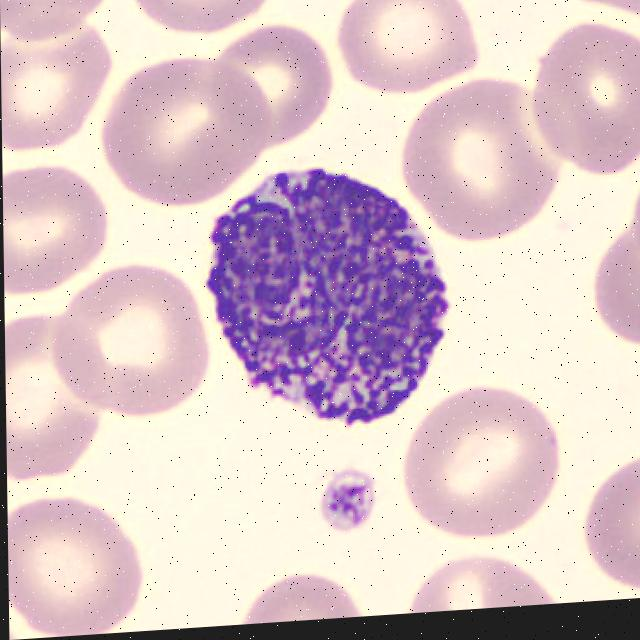basophil: (188, 151, 457, 455)
platelets: (311, 463, 387, 539)
rbc: (407, 78, 577, 249), (397, 384, 563, 542), (97, 58, 271, 206), (55, 267, 216, 420), (5, 302, 127, 486), (7, 495, 152, 640), (206, 20, 333, 165), (530, 20, 640, 183), (1, 27, 120, 156), (3, 163, 113, 299), (344, 0, 484, 99), (395, 553, 565, 614), (232, 559, 367, 625), (584, 448, 640, 602), (587, 222, 640, 363), (0, 0, 113, 61), (129, 0, 276, 46), (543, 0, 640, 26), (618, 185, 640, 270)
